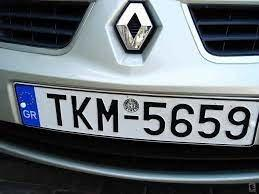license-plates: (16, 84, 258, 146)
